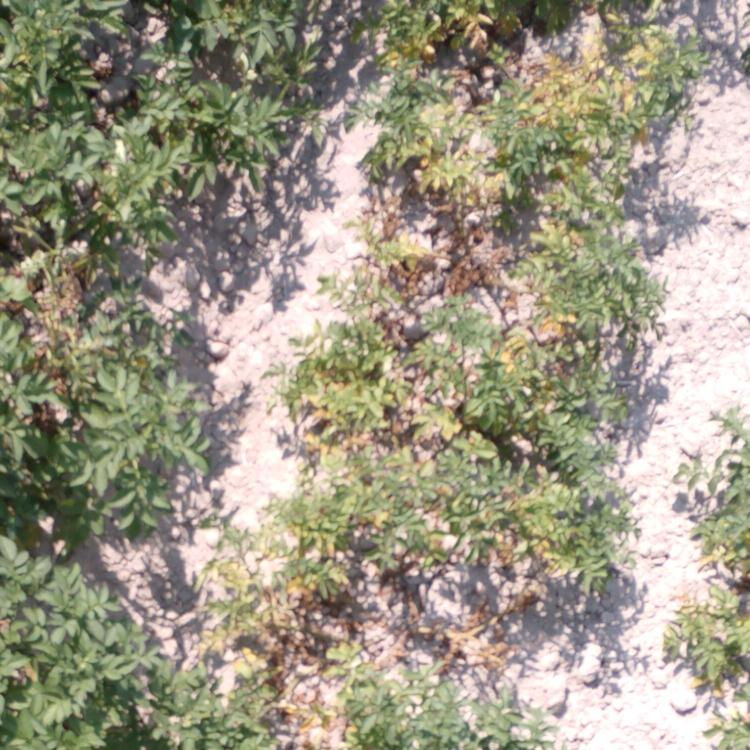healthy: (1, 259, 162, 541), (1, 1, 329, 88), (1, 93, 297, 163), (5, 548, 98, 750), (1, 164, 176, 263), (113, 607, 202, 750), (170, 379, 229, 486)
stressed: (297, 345, 618, 504), (208, 594, 534, 750), (376, 1, 707, 132), (334, 237, 658, 342), (368, 131, 651, 238), (255, 508, 622, 588), (664, 435, 750, 749)
